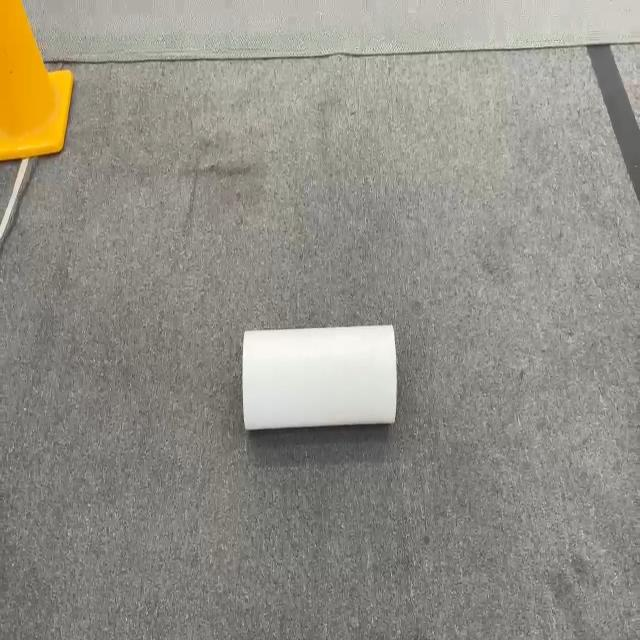coral: (241, 322, 397, 431)
